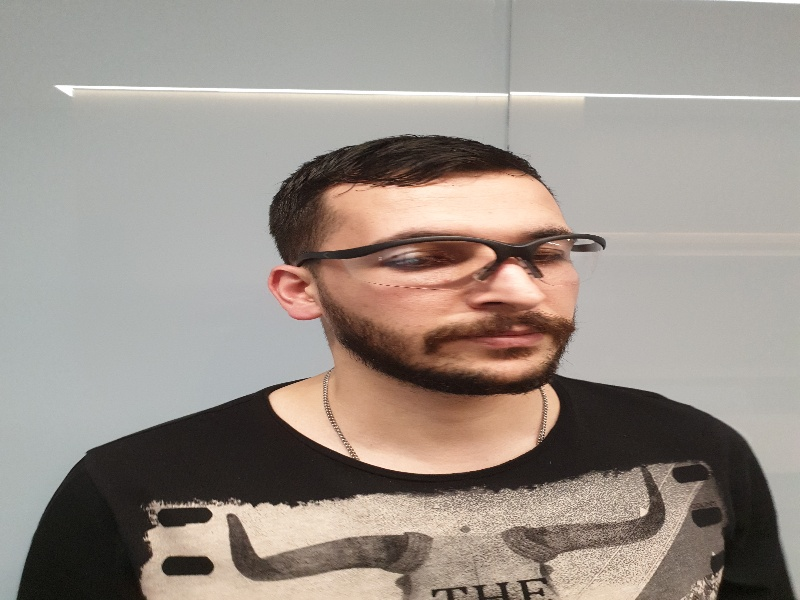Gozluk: (311, 236, 609, 289)
